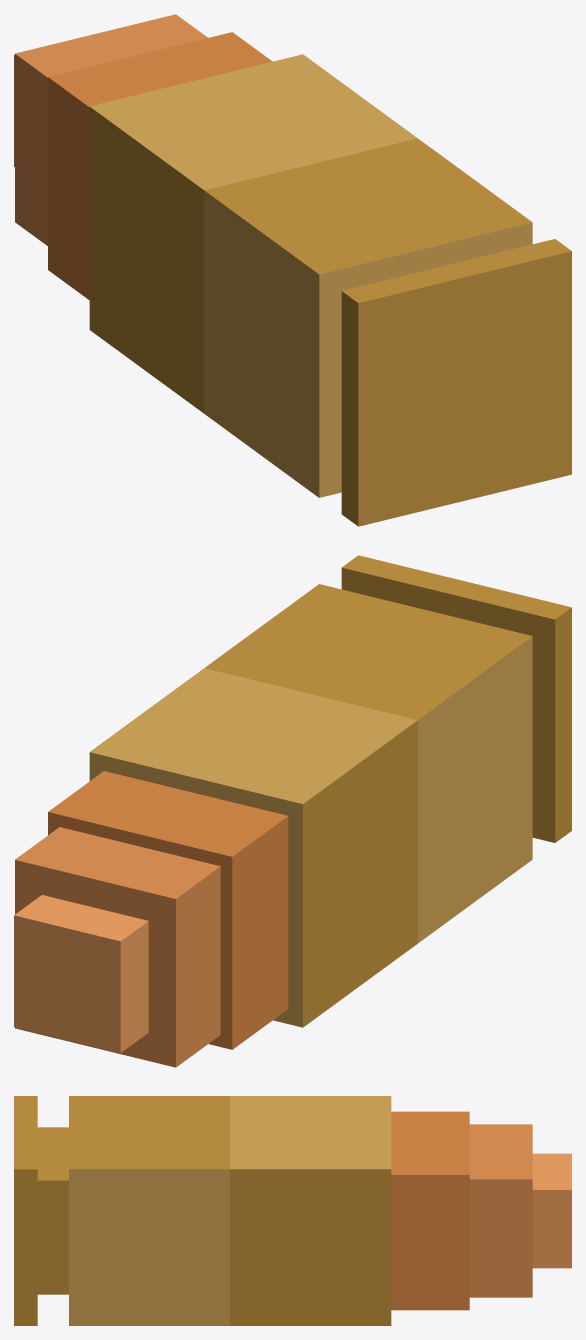
The model's file is udp_9_bullet.fbx.
3 renders of one model, top to bottom at view 1: azimuth 30°, elevation 25°; view 2: azimuth 150°, elevation 25°; view 3: azimuth 270°, elevation 25°, orthographic. The views are drawn at different scales.
Visible parts, largest first — view 1: cube, cube_1, cube_4, cube_3; view 2: cube, cube_4, cube_3, cube_5, cube_1; view 3: cube, cube_4, cube_3, cube_1, cube_2, cube_5.
Part boxes in pixels (x1,y1,x2,y2): cube: (89, 54, 532, 497); cube_1: (341, 239, 571, 526); cube_4: (48, 32, 272, 299); cube_3: (15, 14, 207, 245); cube: (89, 584, 532, 1027); cube_4: (48, 771, 288, 1049); cube_3: (15, 827, 220, 1067); cube_5: (14, 895, 148, 1052); cube_1: (341, 555, 571, 842); cube: (69, 1096, 391, 1325); cube_4: (391, 1111, 469, 1310); cube_3: (469, 1124, 532, 1297); cube_1: (14, 1096, 37, 1325); cube_2: (37, 1127, 68, 1294); cube_5: (532, 1153, 571, 1268).
Bounding box in the file's own units: 2.69 × 2.69 × 8.67.
1 material, 1 textured.
